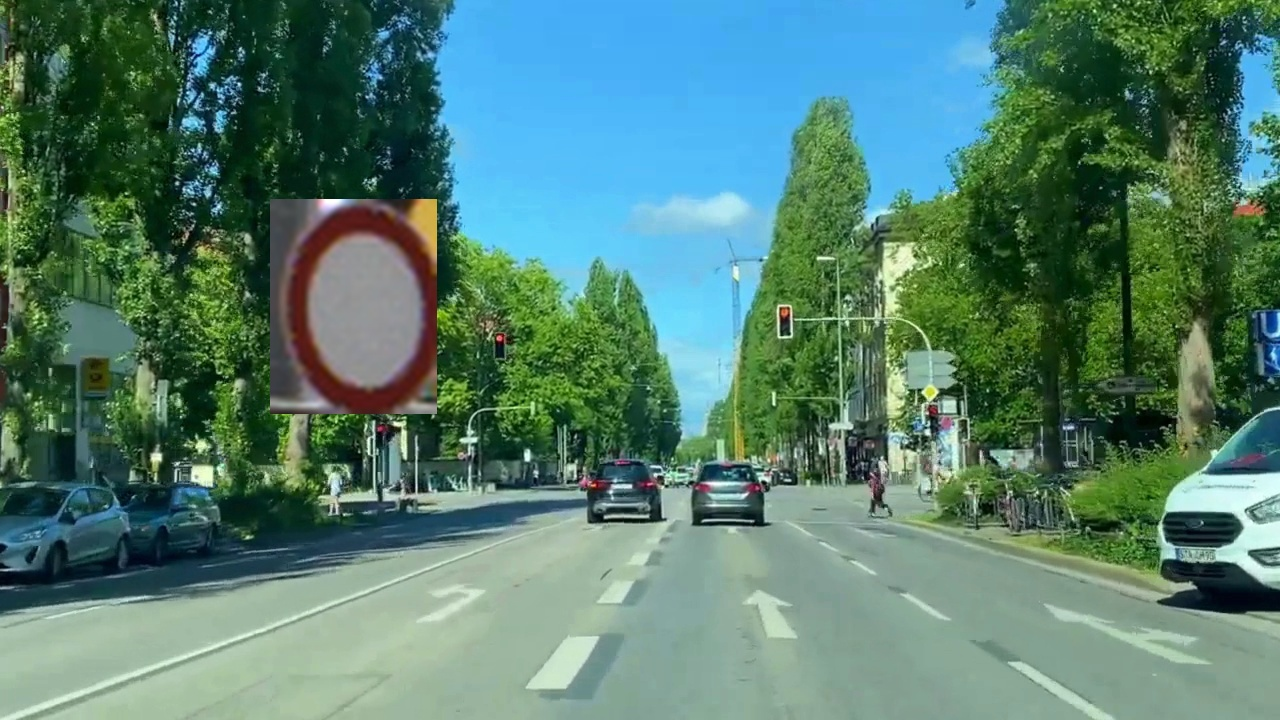No vehicles: (270, 199, 437, 414)
